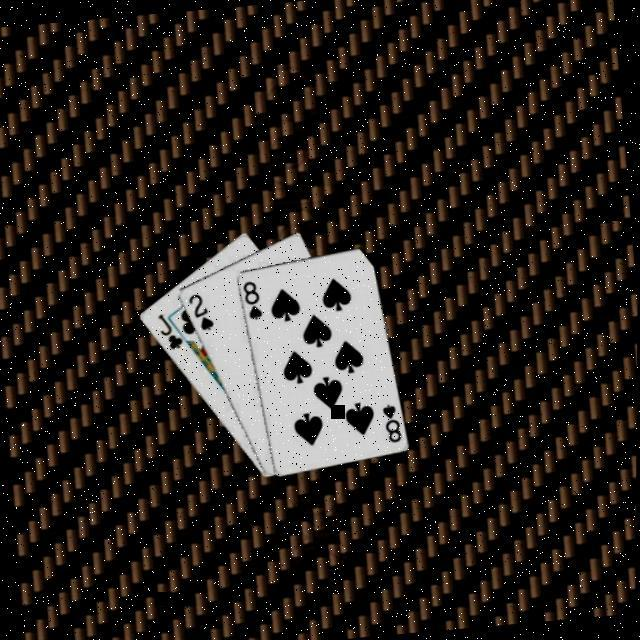2S: (185, 287, 217, 333)
8S: (379, 398, 405, 444), (241, 276, 266, 322)
JC: (154, 308, 188, 352)
